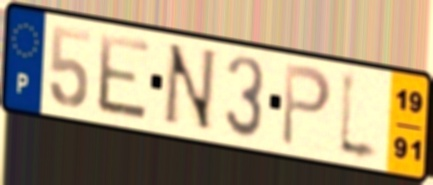3: (223, 53, 266, 142)
5: (47, 22, 93, 111)
E: (96, 30, 153, 125)
L: (335, 66, 384, 170)
N: (158, 41, 219, 136)
P: (279, 60, 335, 150)
